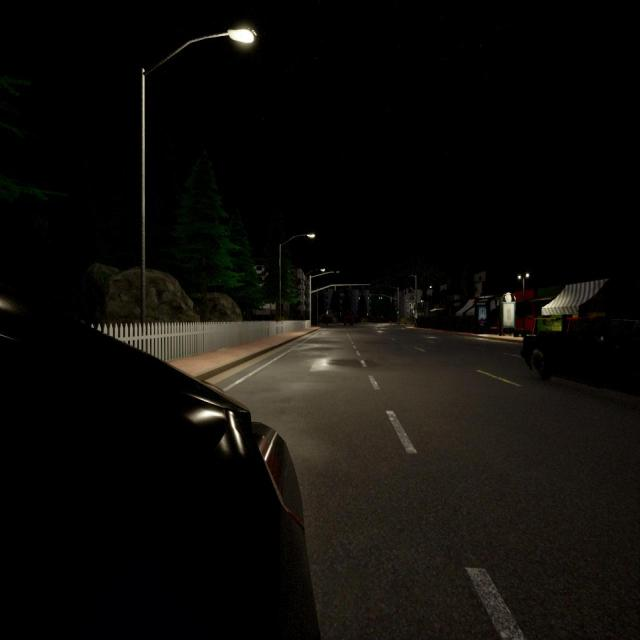Vehicle: (0, 292, 319, 640), (521, 313, 640, 397), (344, 314, 354, 326)
traffic_light: (379, 294, 382, 299), (358, 296, 360, 300), (397, 310, 399, 314), (368, 294, 369, 299)
